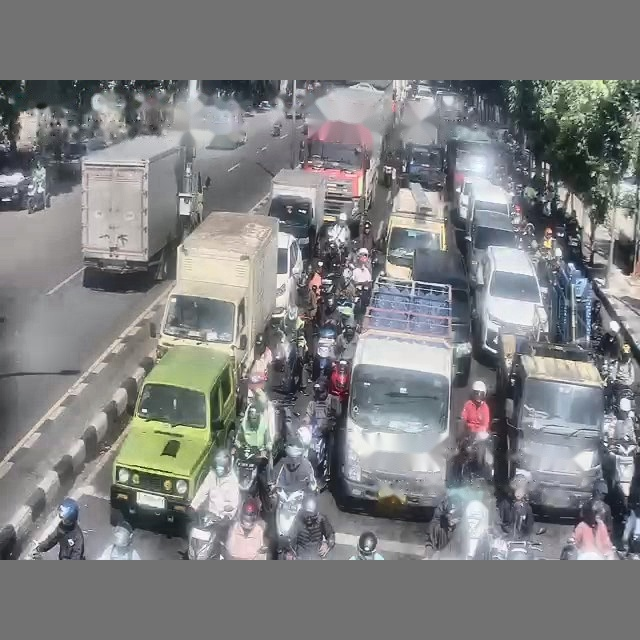Mobil: (412, 246, 471, 386), (272, 232, 302, 320)
Motor: (275, 488, 304, 557), (187, 512, 226, 559), (233, 446, 263, 498), (312, 325, 336, 380), (491, 538, 541, 559), (329, 359, 350, 407), (26, 182, 50, 213)
Truk: (336, 276, 454, 506), (150, 211, 277, 378), (81, 133, 200, 285), (303, 83, 393, 224), (268, 169, 325, 258)
